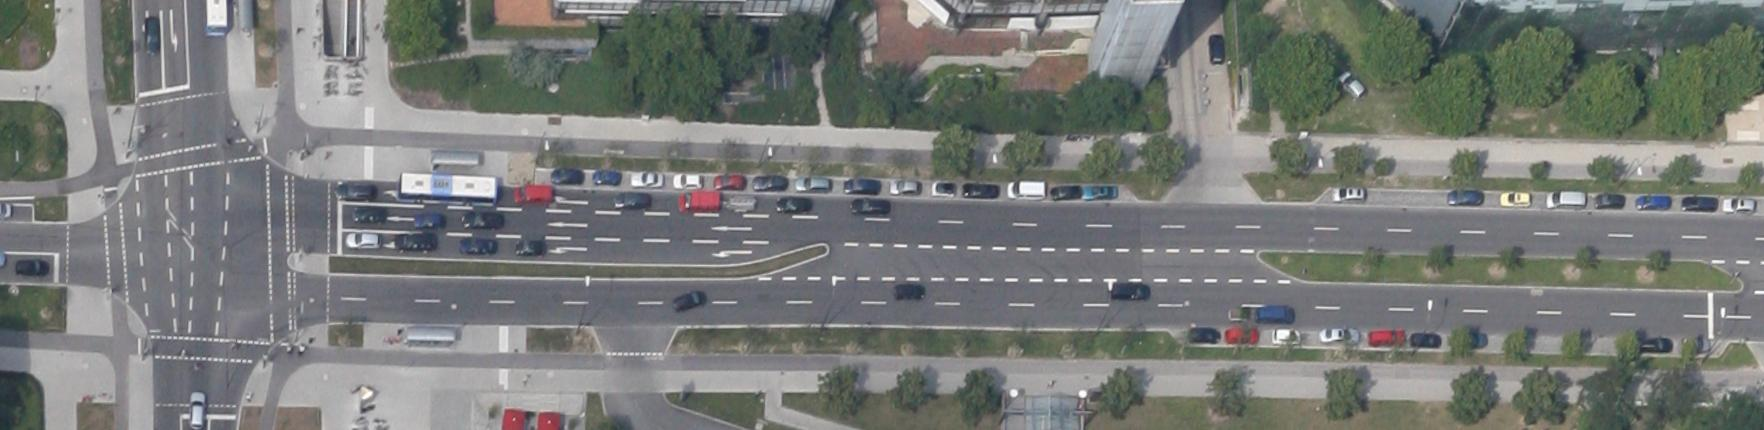car: (1336, 69, 1368, 102), (678, 190, 718, 213), (462, 210, 505, 231), (336, 181, 377, 201), (514, 185, 553, 205), (396, 233, 436, 252), (1546, 189, 1584, 209), (614, 191, 651, 210), (1110, 283, 1150, 301), (672, 290, 706, 311), (1008, 180, 1044, 199), (850, 197, 888, 215), (15, 258, 49, 277), (460, 238, 496, 256), (1255, 306, 1294, 323), (188, 392, 205, 430), (1320, 328, 1359, 343), (144, 17, 160, 55), (354, 205, 386, 223), (776, 196, 812, 212), (1447, 189, 1483, 205), (753, 174, 785, 191), (630, 171, 663, 188), (345, 232, 380, 248), (963, 182, 998, 198), (844, 178, 879, 194), (1410, 331, 1441, 348), (795, 177, 829, 192), (893, 284, 925, 301), (1368, 330, 1404, 344), (514, 240, 547, 256), (1225, 326, 1258, 342), (1722, 197, 1755, 213), (1636, 195, 1668, 210), (1208, 34, 1225, 64), (1641, 337, 1672, 353), (889, 179, 919, 196), (1682, 197, 1717, 212), (1271, 328, 1300, 344), (1082, 185, 1116, 199), (413, 214, 443, 230), (1189, 326, 1219, 342), (1594, 192, 1624, 208), (714, 173, 745, 189), (1332, 187, 1365, 201), (592, 169, 620, 186), (551, 169, 583, 183), (674, 173, 702, 189), (1501, 191, 1530, 206), (728, 196, 755, 212), (1052, 185, 1080, 199), (1227, 307, 1250, 322), (931, 181, 954, 196)
